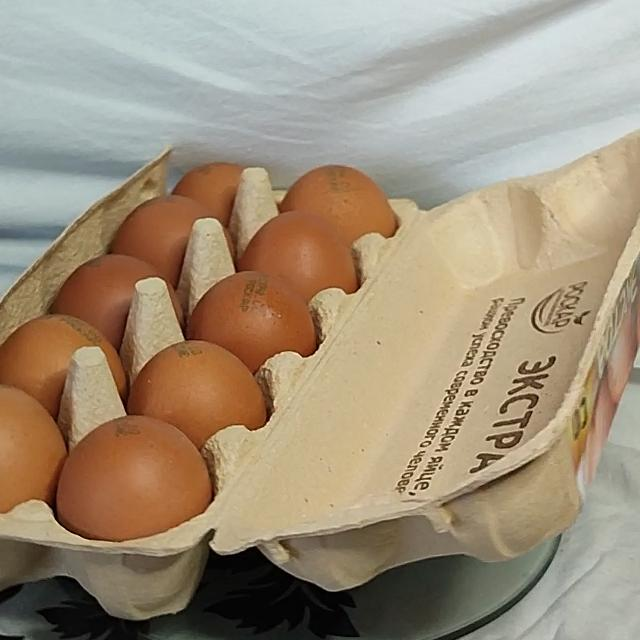egg: (0, 59, 640, 627)
